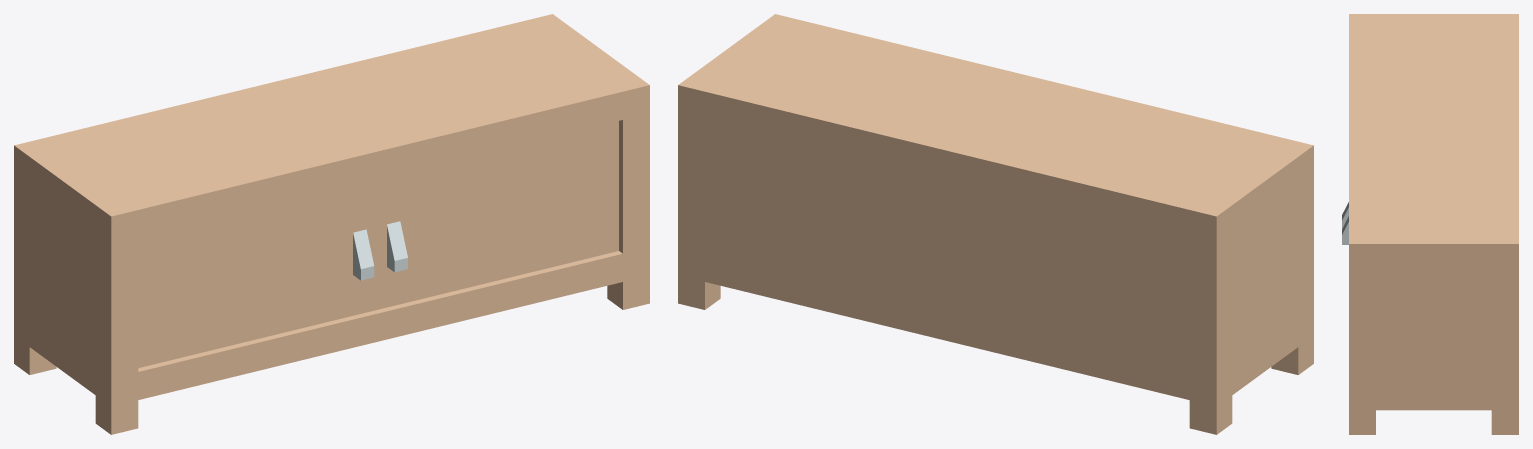
The model's file is cabinetTelevisionDoors.glb.
The picture shows the model from 3 angles, left to right: view 1: azimuth 30°, elevation 25°; view 2: azimuth 150°, elevation 25°; view 3: azimuth 270°, elevation 25°; orthographic projection. The views are drawn at different scales.
Visible parts, largest first — view 1: cabinetTelevisionDoors(Clone), doorRight, doorLeft; view 2: cabinetTelevisionDoors(Clone); view 3: cabinetTelevisionDoors(Clone).
Part boxes in pixels (x1=…): cabinetTelevisionDoors(Clone): x1=14, y1=14, x2=649, y2=434; doorRight: x1=376, y1=121, x2=618, y2=309; doorLeft: x1=138, y1=180, x2=376, y2=367; cabinetTelevisionDoors(Clone): x1=678, y1=14, x2=1313, y2=434; cabinetTelevisionDoors(Clone): x1=1349, y1=14, x2=1518, y2=434.
Size of the model in its own units: 1.62 by 0.6293 by 0.5278.
Materials: 2 (2 with a texture image).
